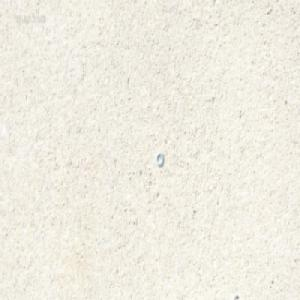Washer: (156, 152, 163, 167)
